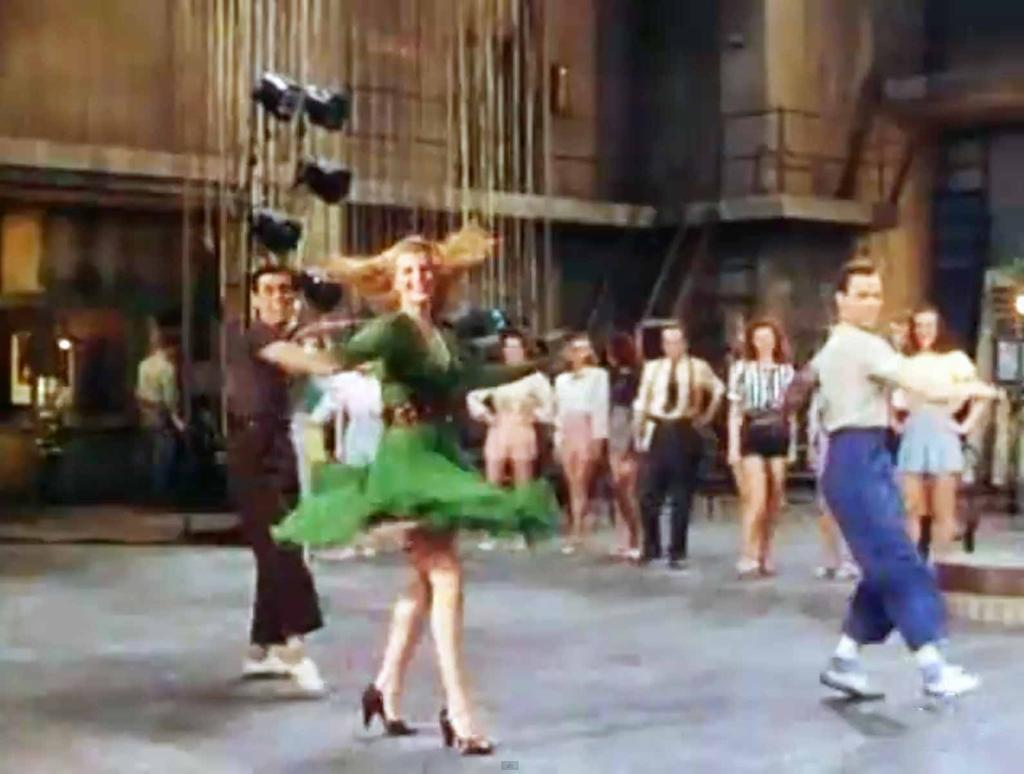face: (848, 273, 882, 327), (397, 252, 432, 302), (260, 273, 292, 324), (913, 310, 936, 346), (503, 339, 525, 367), (662, 328, 682, 357), (753, 327, 775, 350)
